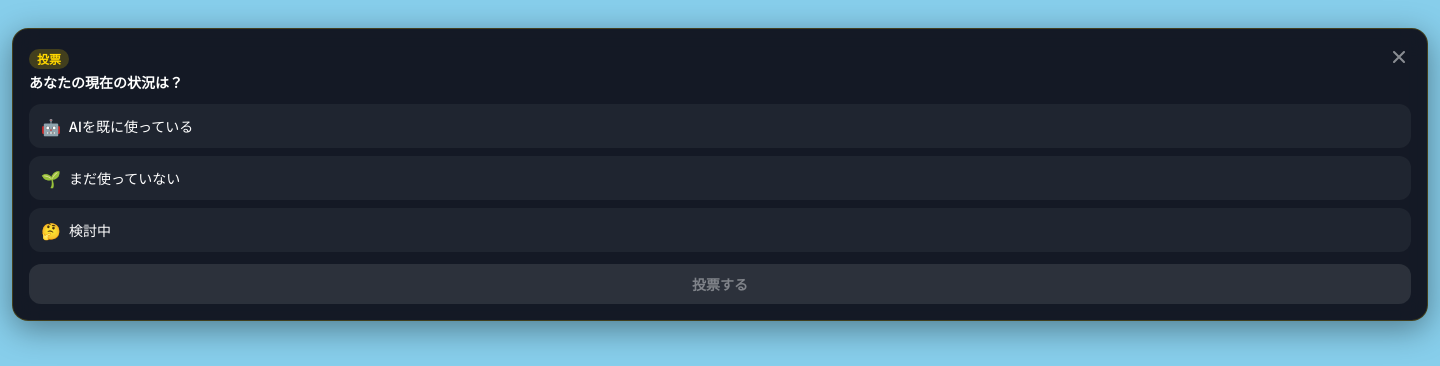
Test case: PollOverlay - selection › toggling a selected option deselects it
Click the text "AIを既に使っている".
click(131, 126)  # box [69,116,193,136]
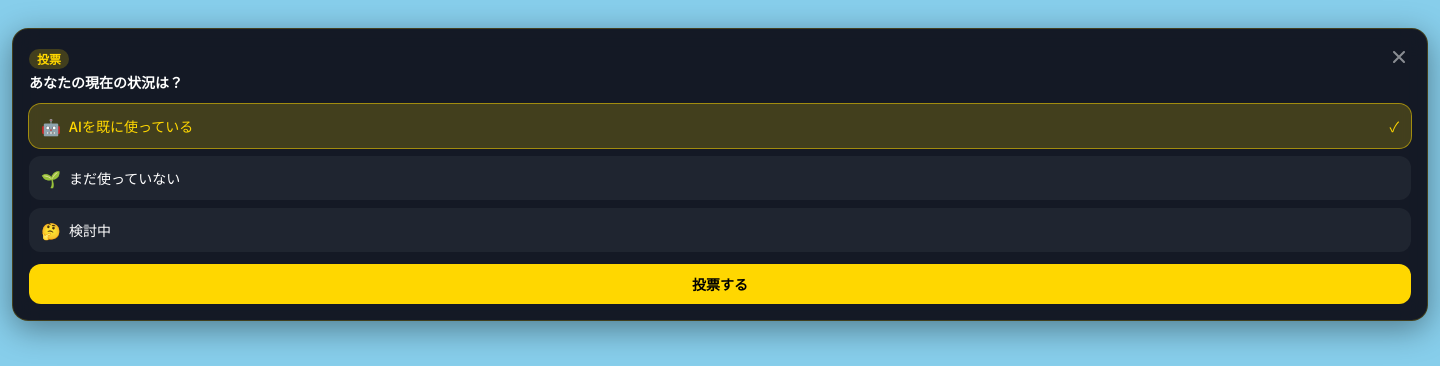
Click the text "AIを既に使っている".
click(131, 126)  # box [69,116,193,136]
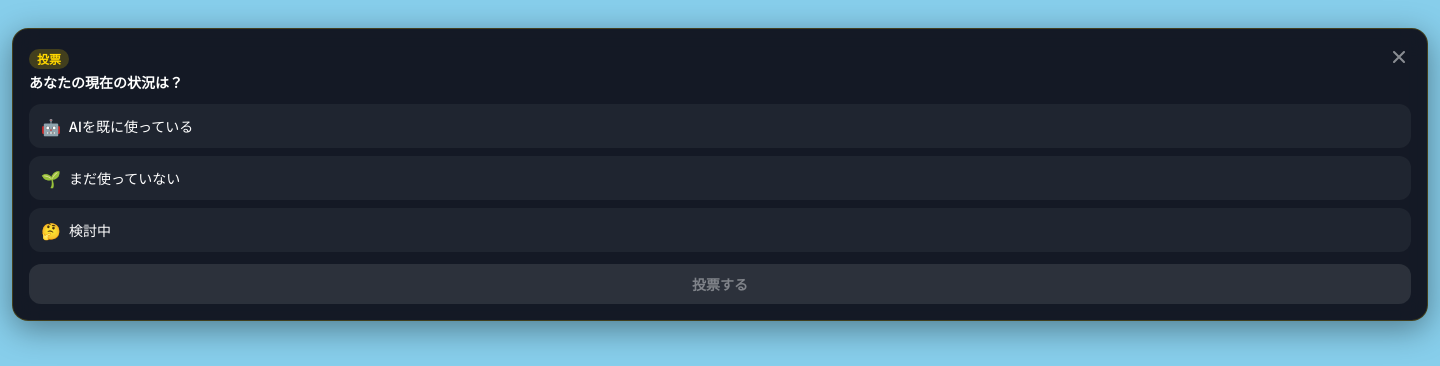
Expected: the button "投票する" is disabled, [29,264,1411,304]
